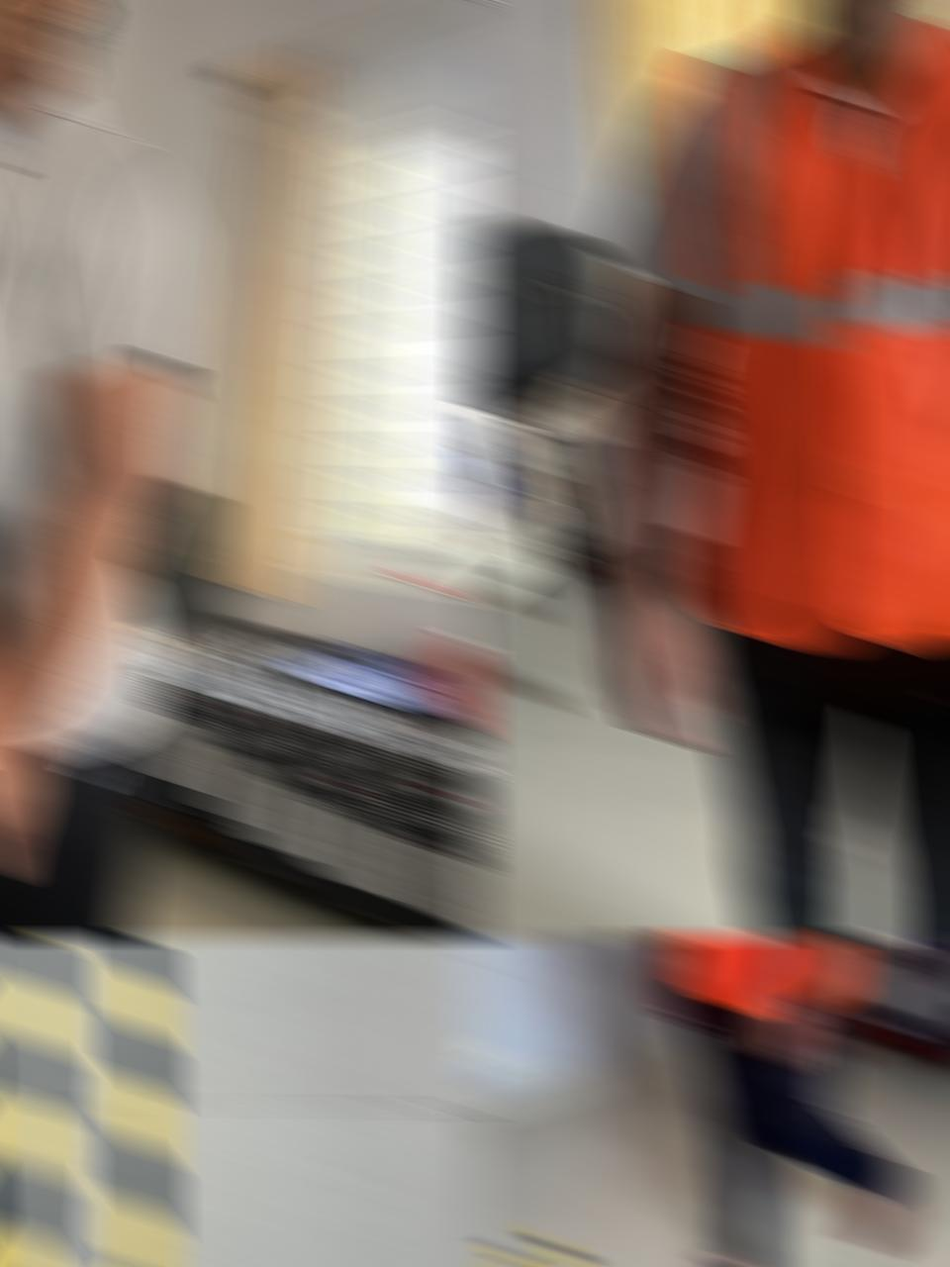BorderLine: (0, 934, 171, 1267)
No_Vest: (0, 80, 201, 759)
Person: (594, 0, 950, 940), (0, 0, 201, 940), (650, 934, 915, 1267)
Vest: (673, 19, 950, 651), (660, 934, 862, 1015)
